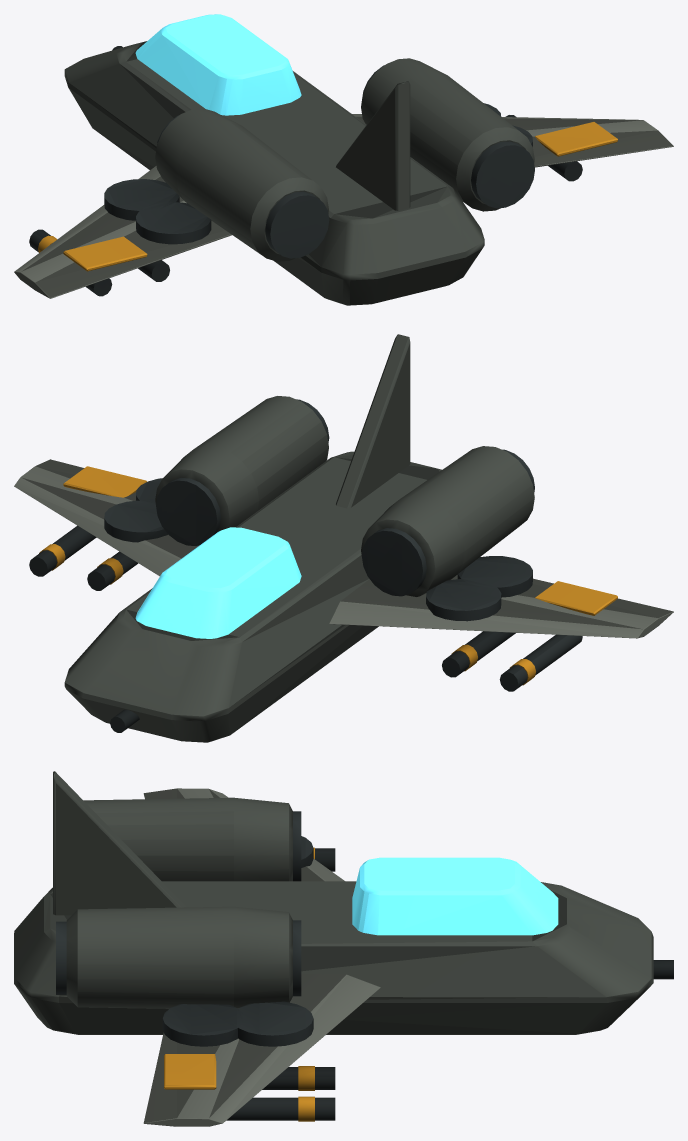
The model's file is Helicopter.glb.
The picture shows the model from 3 angles, top to bottom: view 1: azimuth 30°, elevation 25°; view 2: azimuth 150°, elevation 25°; view 3: azimuth 270°, elevation 25°; orthographic projection. The views are drawn at different scales.
Parts seen in each view (by area): view 1: export_Helicopter_Fuselage; view 2: export_Helicopter_Fuselage; view 3: export_Helicopter_Fuselage.
Boxes of the visible parts, x1=… form: export_Helicopter_Fuselage: x1=14, y1=14, x2=673, y2=305; export_Helicopter_Fuselage: x1=14, y1=334, x2=673, y2=742; export_Helicopter_Fuselage: x1=14, y1=771, x2=673, y2=1126.
Size of the model in its own units: 5.7 by 1.82 by 4.82.
